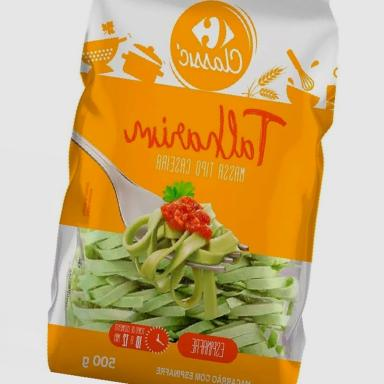pasta package: (49, 0, 337, 383)
